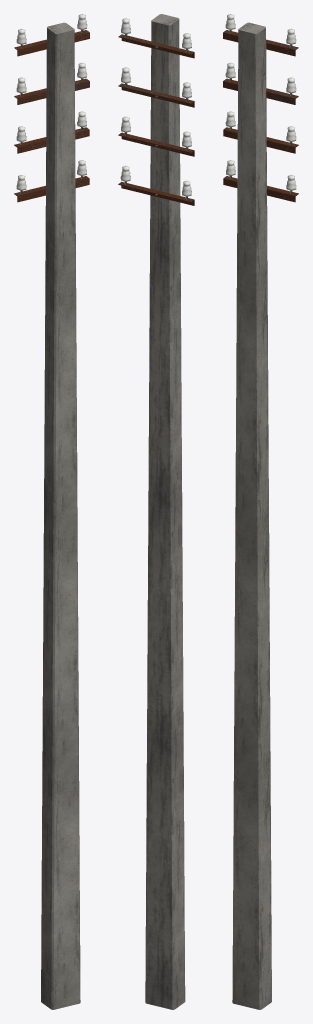
Rendered from pole_sv95_lod2_web.glb.
The picture shows the model from 3 angles, left to right: view 1: azimuth 30°, elevation 25°; view 2: azimuth 150°, elevation 25°; view 3: azimuth 330°, elevation 25°; orthographic projection.
Parts seen in each view (by area): view 1: PoleSV95_Mesh; view 2: PoleSV95_Mesh; view 3: PoleSV95_Mesh.
Boxes of the visible parts, x1=… form: PoleSV95_Mesh: x1=14, y1=14, x2=89, y2=1009; PoleSV95_Mesh: x1=118, y1=14, x2=194, y2=1009; PoleSV95_Mesh: x1=223, y1=14, x2=298, y2=1009.
Size of the model in its own units: 0.6202 by 8 by 0.2598.
4 materials, 3 textured.
